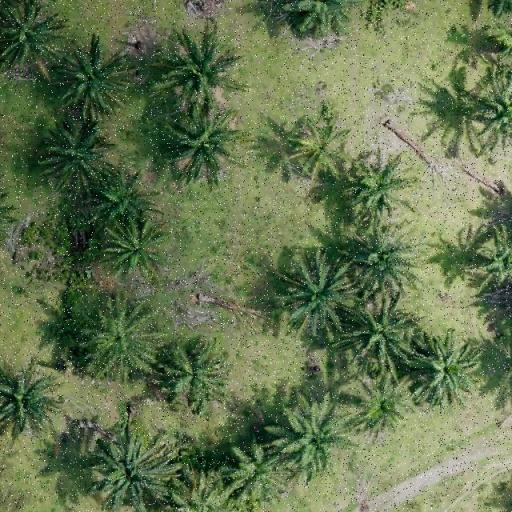Ganoderma: (356, 388, 406, 430), (298, 128, 342, 170)
